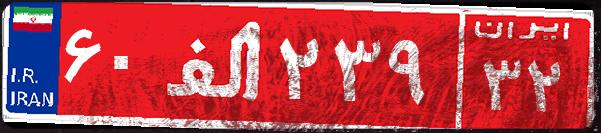0: (110, 28, 158, 105)
2: (273, 28, 330, 110), (525, 38, 570, 115)
3: (330, 28, 385, 110), (475, 38, 525, 113)
6: (57, 26, 110, 107)
9: (385, 28, 445, 110)
الف: (158, 15, 273, 115)
